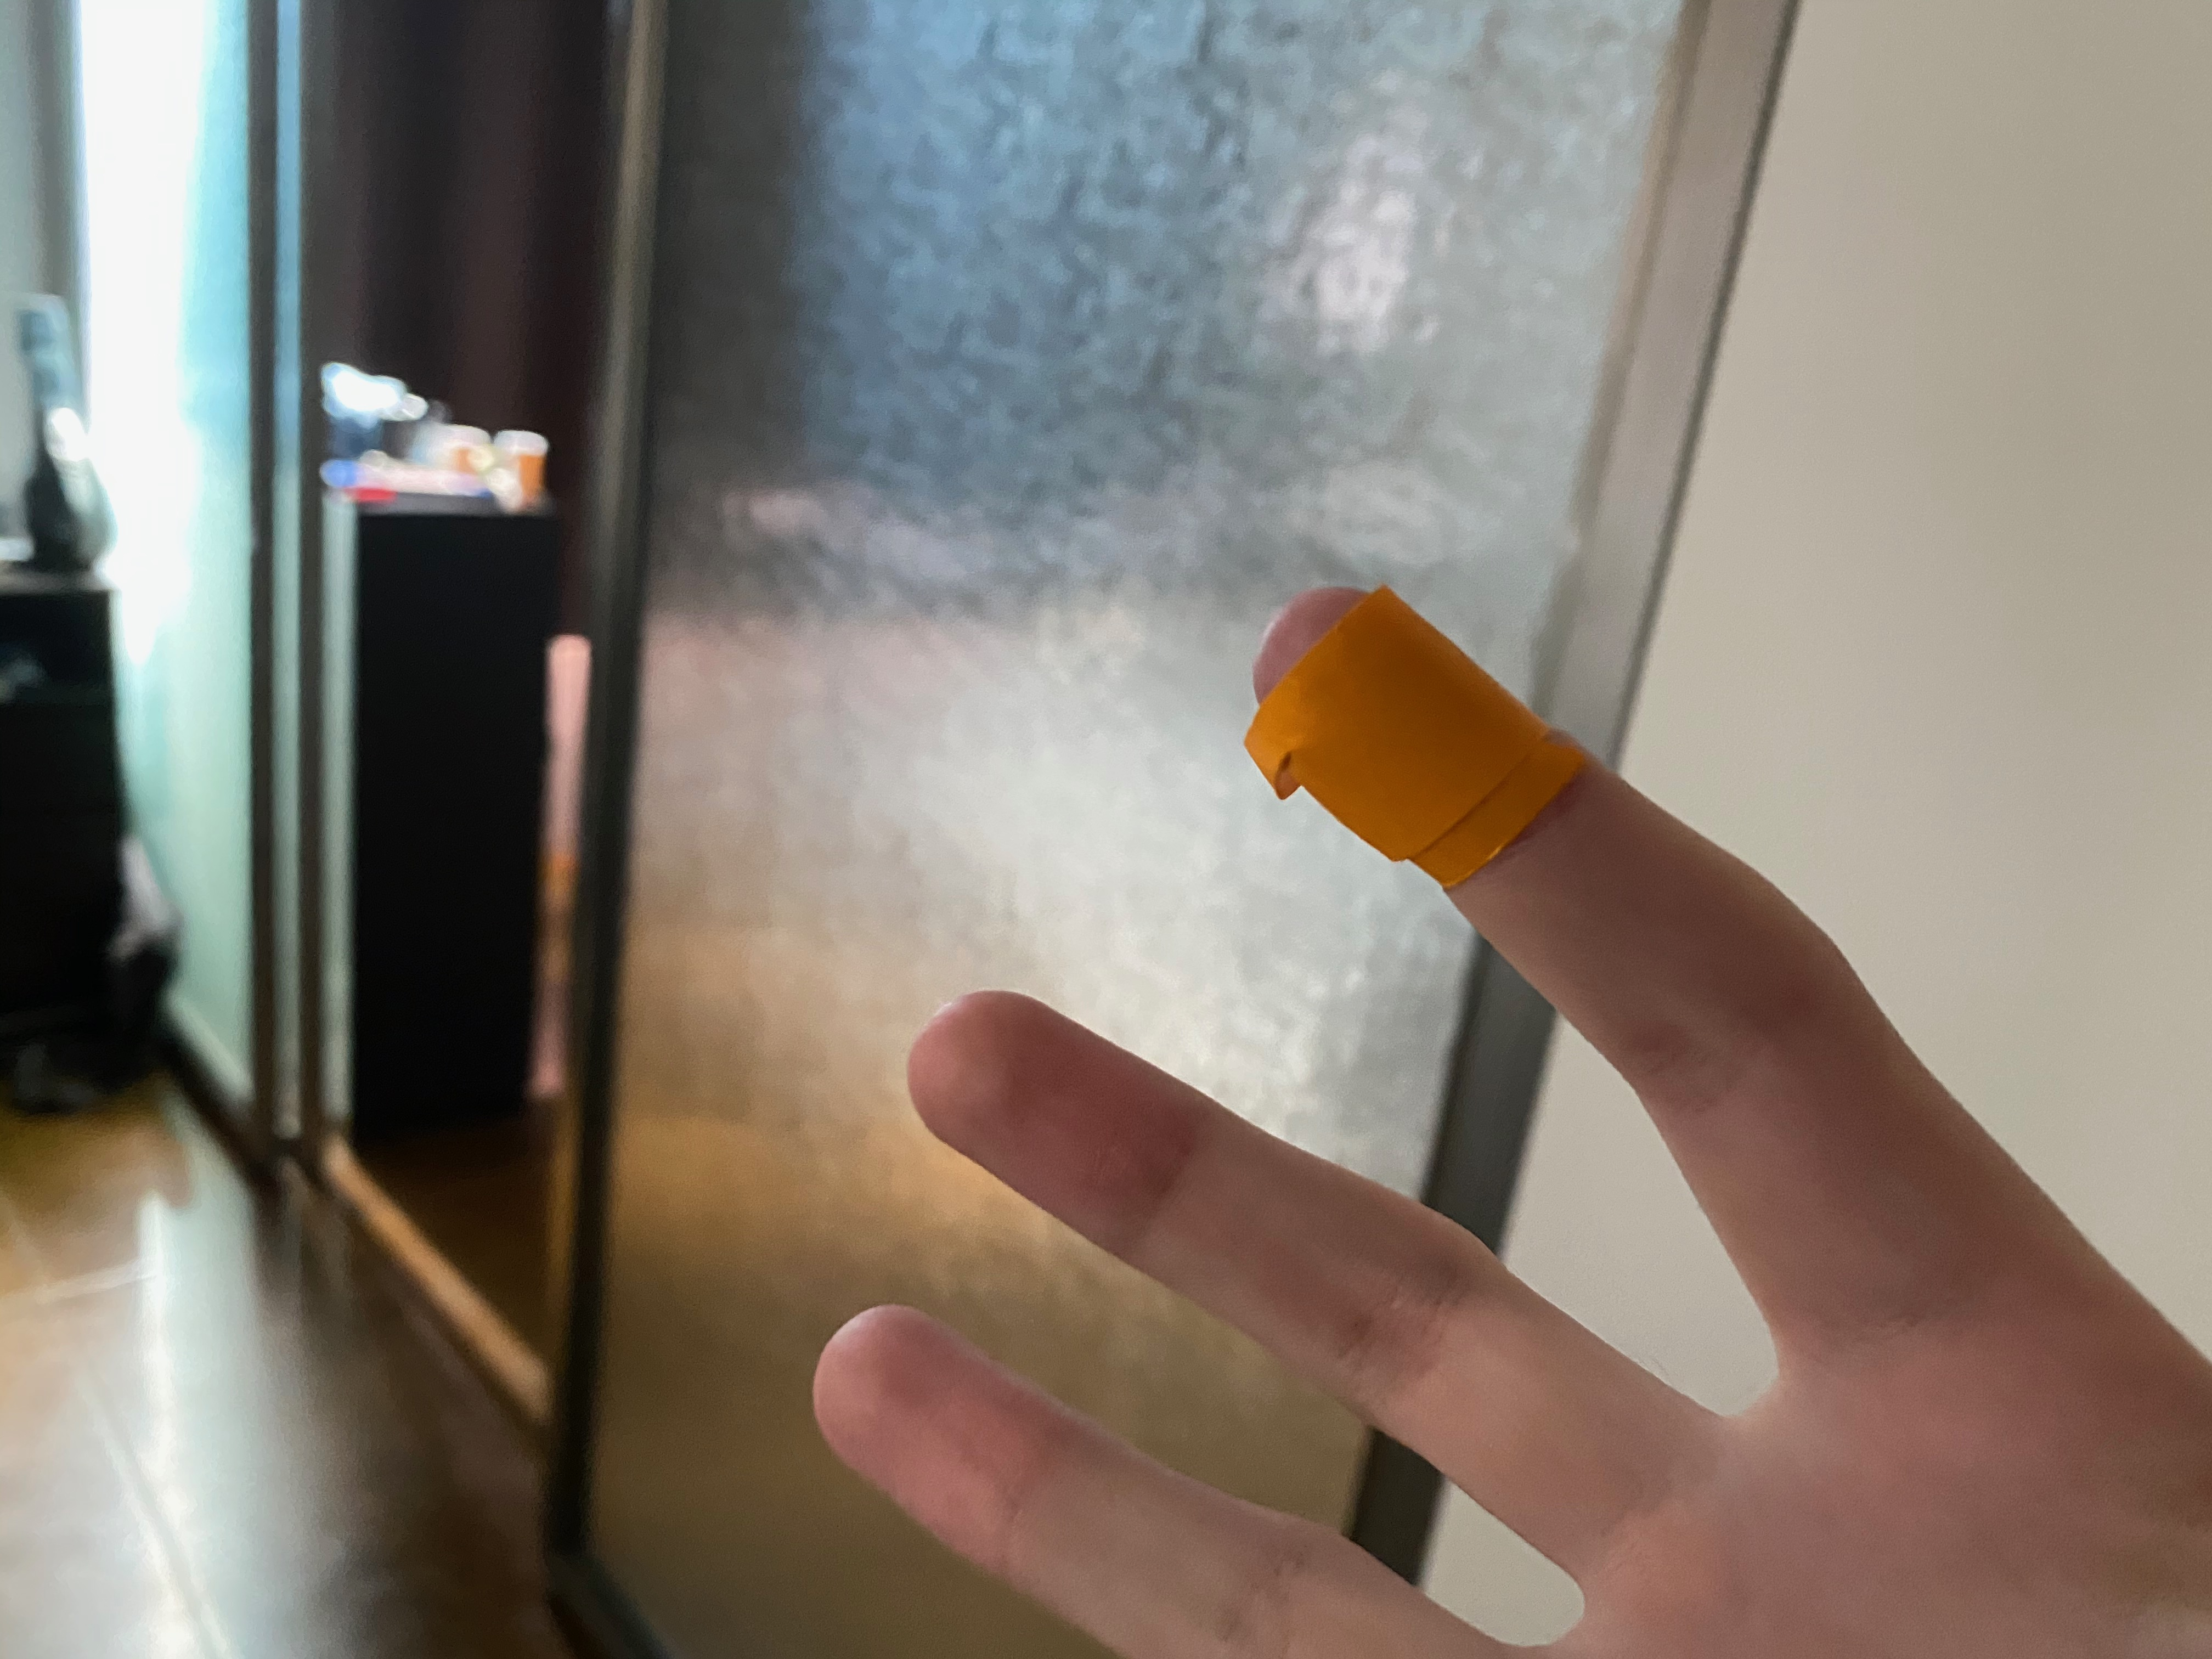fingertip: (1221, 575, 1602, 866)
